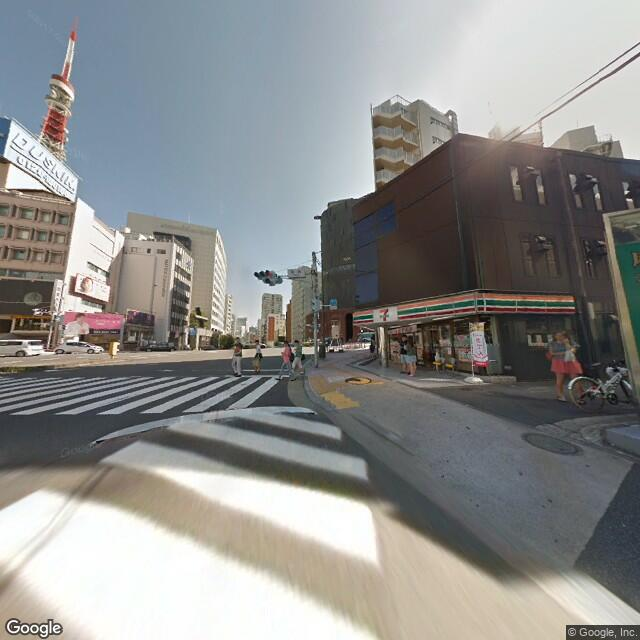7-eleven: (351, 290, 577, 331)
